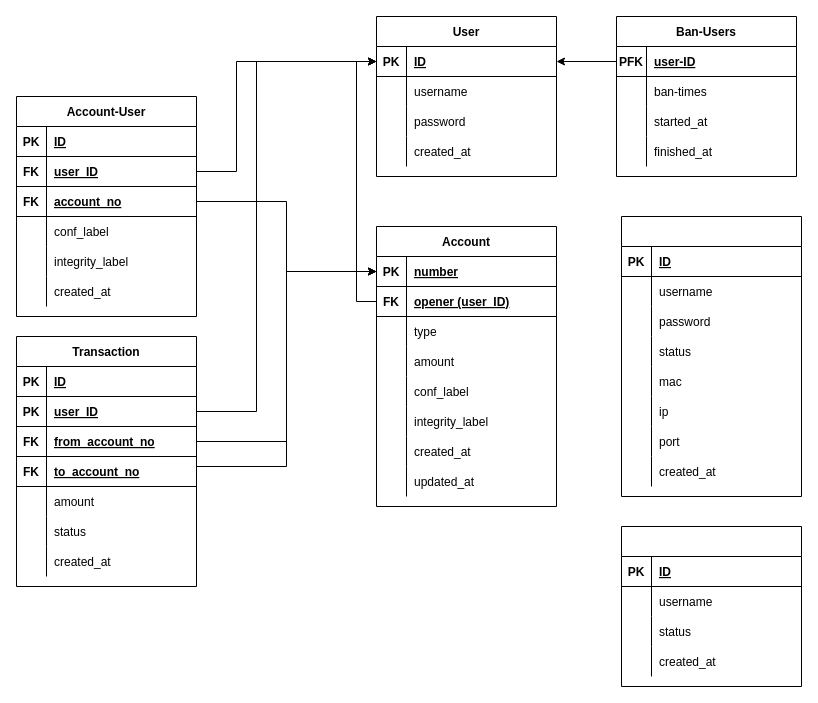
The diagram is 818 pixels wide and 703 high, and some of its shapes have lost their labels. The box of each missing label's shape, as (x1, y1, x2, y2) in pixels:
Login-Request-Log: (620, 216, 802, 496)
Signup-Request-Log: (620, 526, 802, 686)
